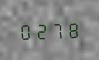eight: (63, 19, 77, 39)
seven: (48, 20, 62, 39)
two: (33, 20, 47, 40)
zero: (18, 21, 32, 40)
